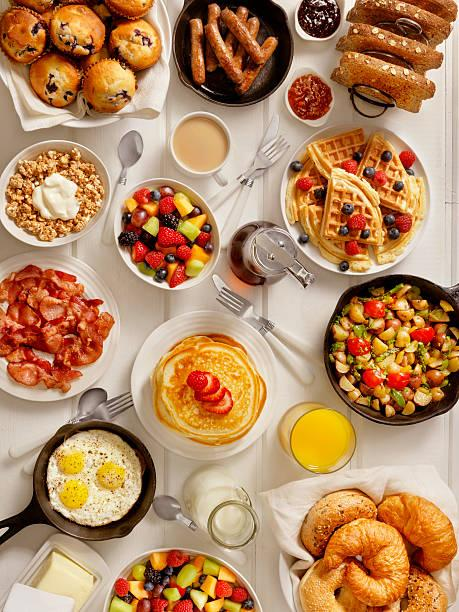Braised Crucian Carp: (262, 461, 450, 606), (5, 1, 173, 130), (279, 125, 421, 276), (131, 311, 278, 454), (323, 276, 455, 420), (1, 255, 120, 396), (33, 420, 161, 544), (171, 0, 293, 108), (0, 138, 116, 251), (113, 178, 220, 287)
